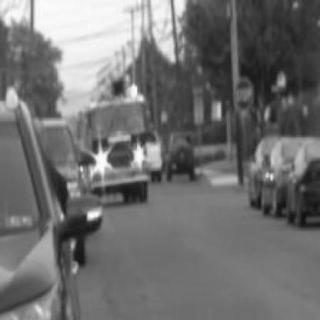other: (87, 136, 145, 166), (77, 86, 151, 100)
